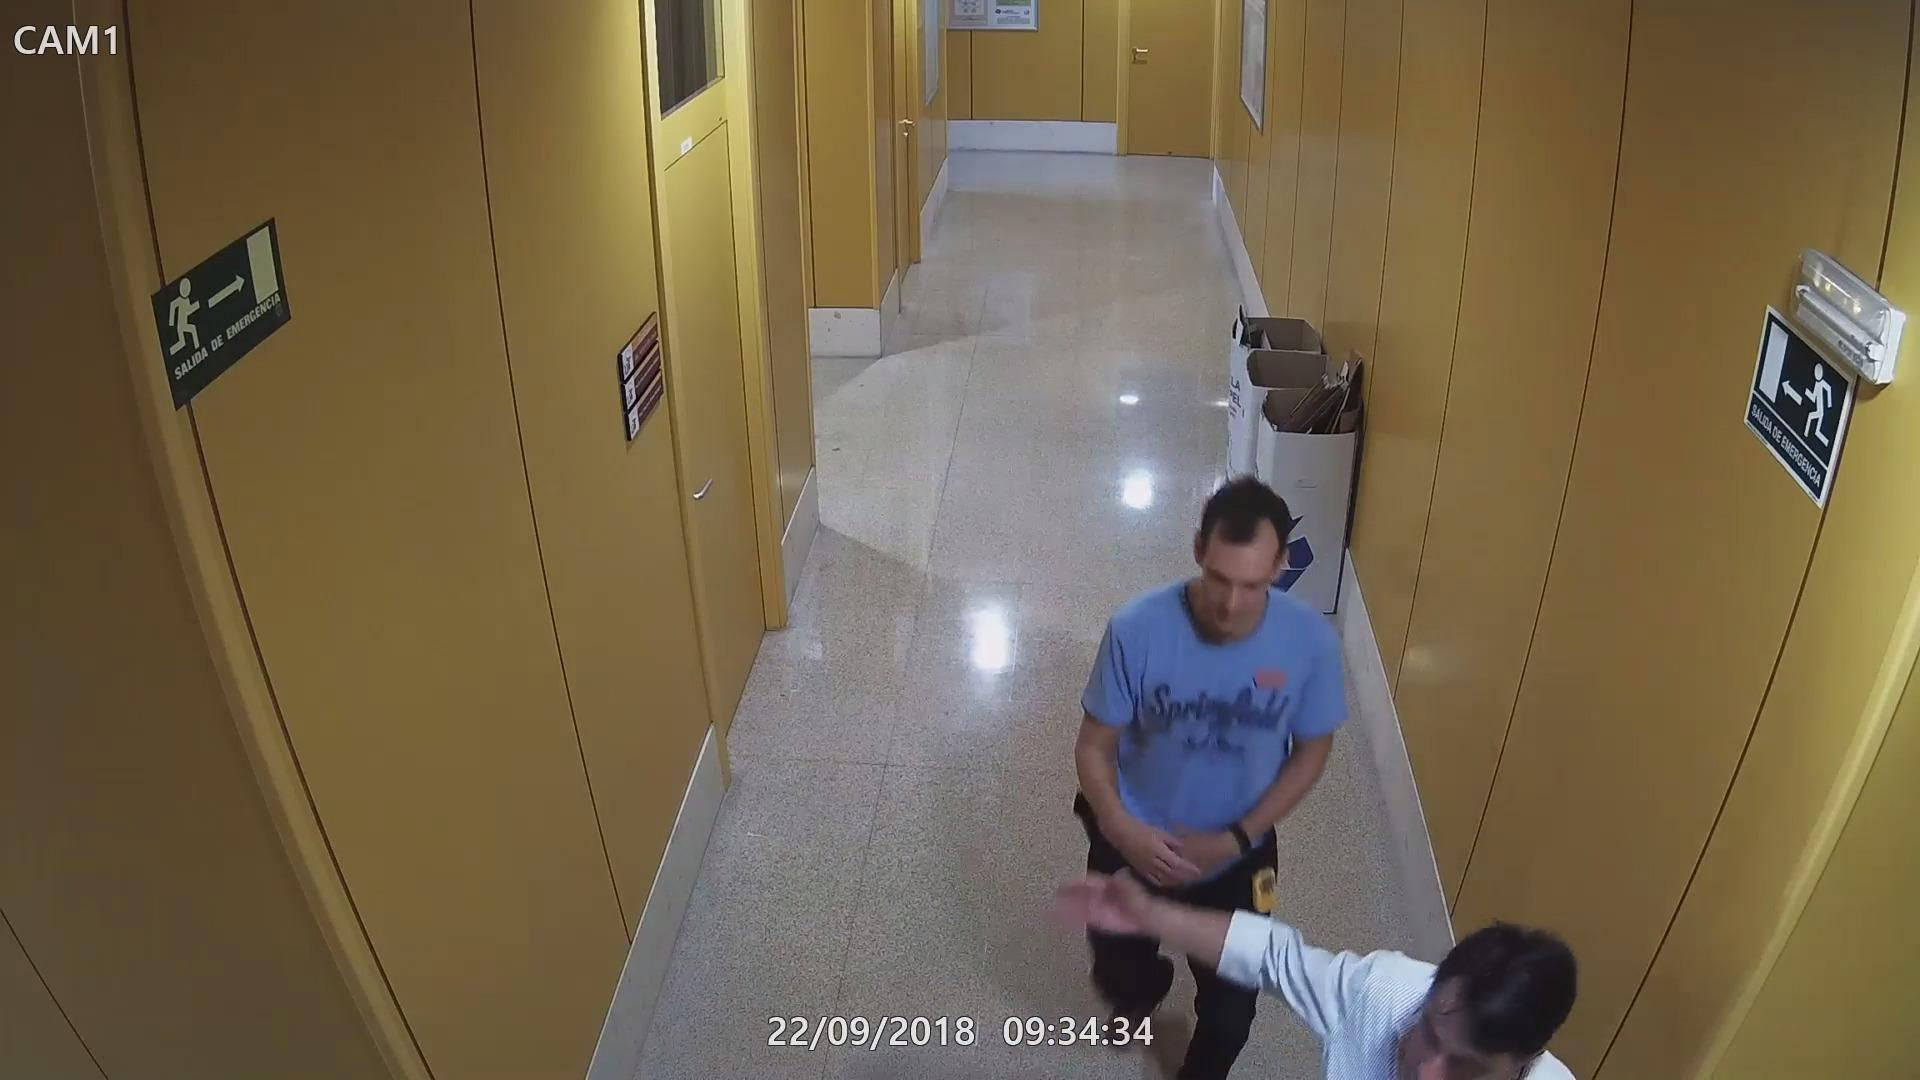Handgun: (1058, 782, 1106, 847)
